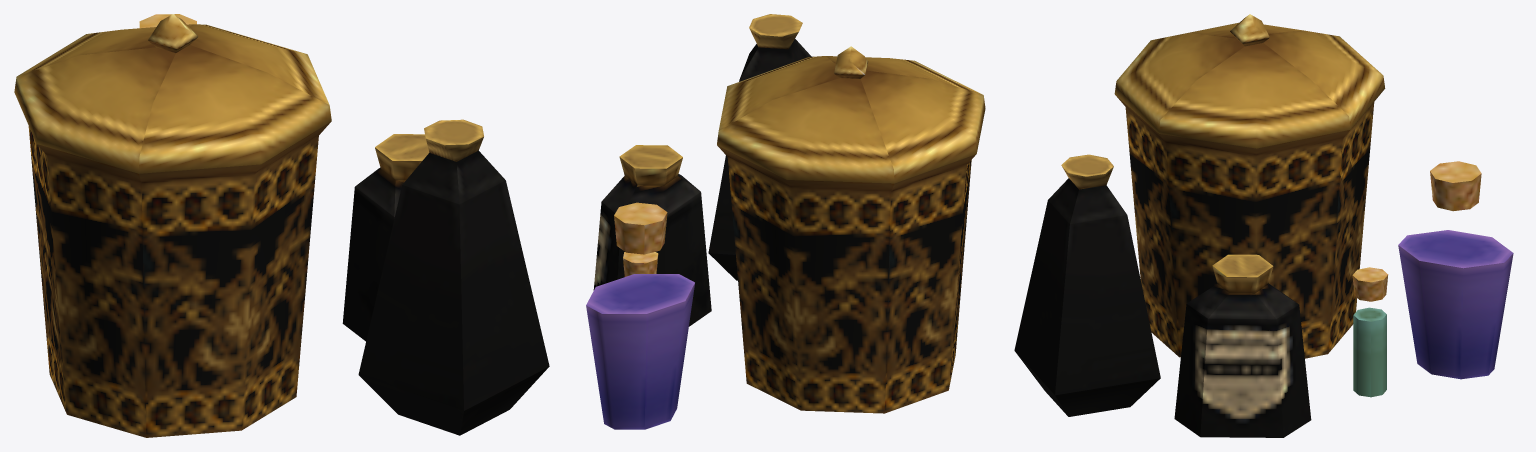
File: Bottles.obj
The picture shows the model from 3 angles, left to right: view 1: azimuth 30°, elevation 25°; view 2: azimuth 150°, elevation 25°; view 3: azimuth 270°, elevation 25°; orthographic projection. The views are drawn at different scales.
Visible parts, largest first — view 1: PotionBottles; view 2: PotionBottles; view 3: PotionBottles.
Boxes of the visible parts, x1=… form: PotionBottles: x1=14, y1=14, x2=549, y2=437; PotionBottles: x1=586, y1=14, x2=985, y2=429; PotionBottles: x1=1014, y1=14, x2=1513, y2=437.
Size of the model in its own units: 1.3 by 1.1 by 1.63.
1 material, 1 textured.
